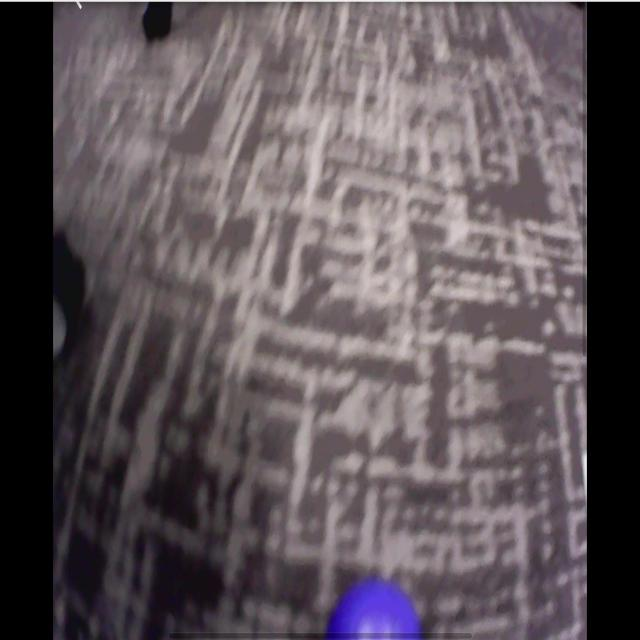ball: (332, 586, 419, 637)
